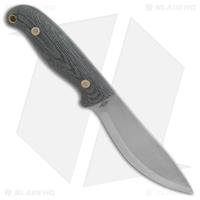knife: (10, 5, 194, 196)
